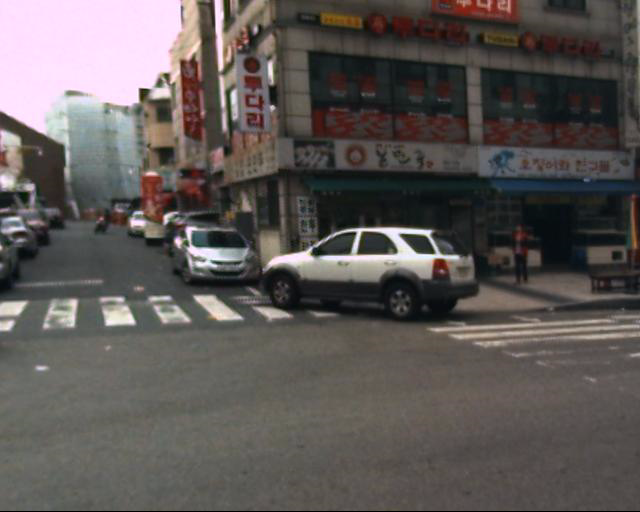person: (505, 211, 538, 297)
